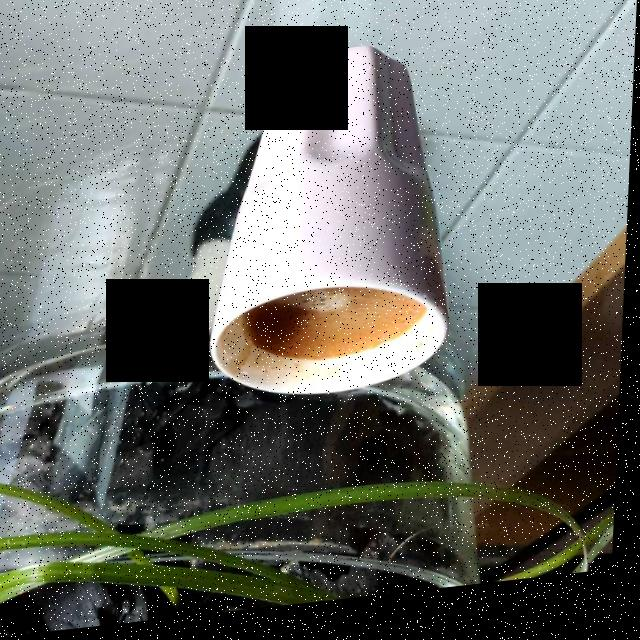coffee-with-caffeine: (244, 298, 425, 368)
